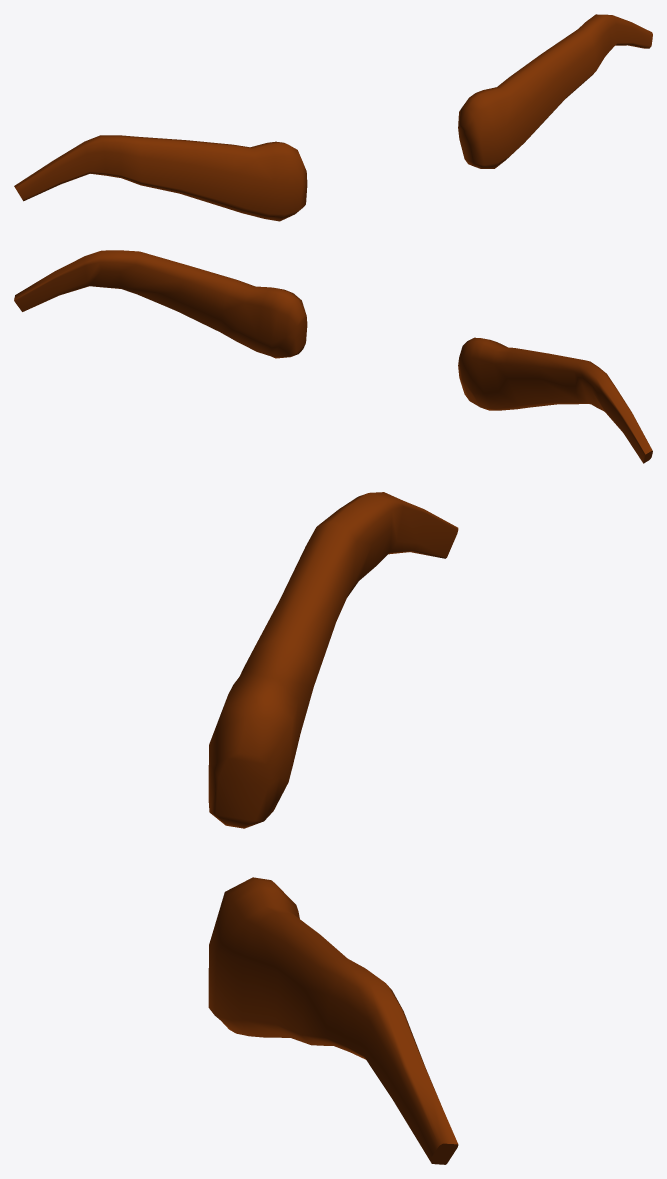
The model's file is Eyebrows_13_02.fbx.
3 renders of one model, top to bottom at view 1: azimuth 30°, elevation 25°; view 2: azimuth 150°, elevation 25°; view 3: azimuth 270°, elevation 25°, orthographic. The views are drawn at different scales.
Visible parts, largest first — view 1: Eyebrows_13_02; view 2: Eyebrows_13_02; view 3: Eyebrows_13_02.
Boxes of the visible parts, x1,y1,x2,y2 form: Eyebrows_13_02: (14, 14, 652, 221); Eyebrows_13_02: (14, 250, 652, 463); Eyebrows_13_02: (208, 492, 458, 1164).
Size of the model in its own units: 19.7 by 2.81 by 3.35.
